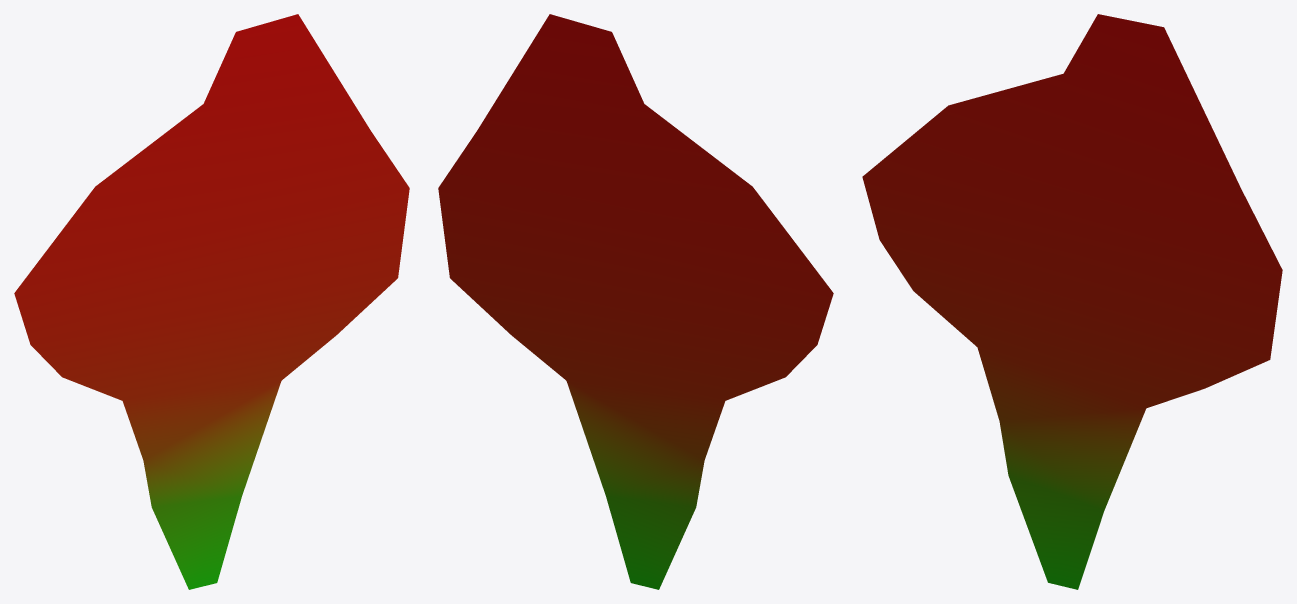
File: Var9_LOD7.fbx
The picture shows the model from 3 angles, left to right: view 1: azimuth 30°, elevation 25°; view 2: azimuth 150°, elevation 25°; view 3: azimuth 330°, elevation 25°; orthographic projection. The views are drawn at different scales.
Parts seen in each view (by area): view 1: _8efw_Var9_LOD7; view 2: _8efw_Var9_LOD7; view 3: _8efw_Var9_LOD7.
Boxes of the visible parts, box(x1,y1,x2,y2) form: _8efw_Var9_LOD7: box(14, 14, 409, 589); _8efw_Var9_LOD7: box(438, 14, 833, 589); _8efw_Var9_LOD7: box(862, 14, 1282, 589).
Size of the model in its own units: 24.96 by 33.13 by 1.25e-06.
